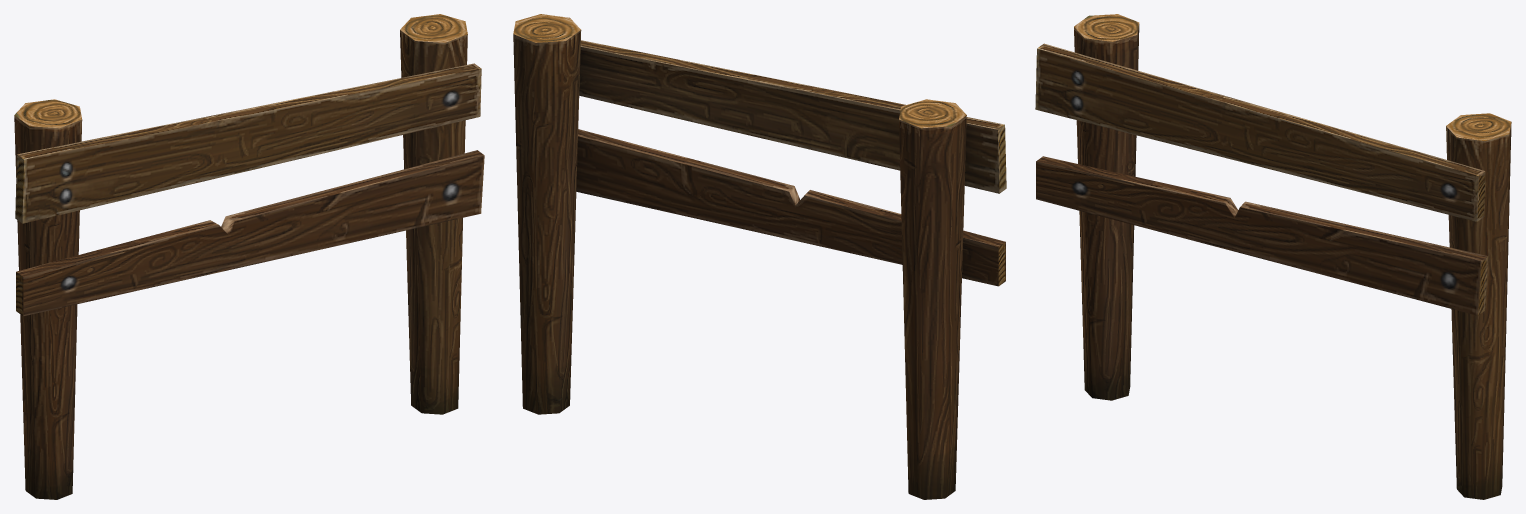
The model's file is Fence1.fbx.
3 renders of one model, left to right at view 1: azimuth 30°, elevation 25°; view 2: azimuth 150°, elevation 25°; view 3: azimuth 330°, elevation 25°, orthographic. The views are drawn at different scales.
Visible parts, largest first — view 1: polySurface504; view 2: polySurface504; view 3: polySurface504.
Part boxes in pixels (x1,y1,x2,y2): polySurface504: [14, 14, 484, 499]; polySurface504: [513, 14, 1006, 499]; polySurface504: [1035, 14, 1511, 499].
Size of the model in its own units: 1.75 by 1.38 by 0.2677.
1 material, 1 textured.
